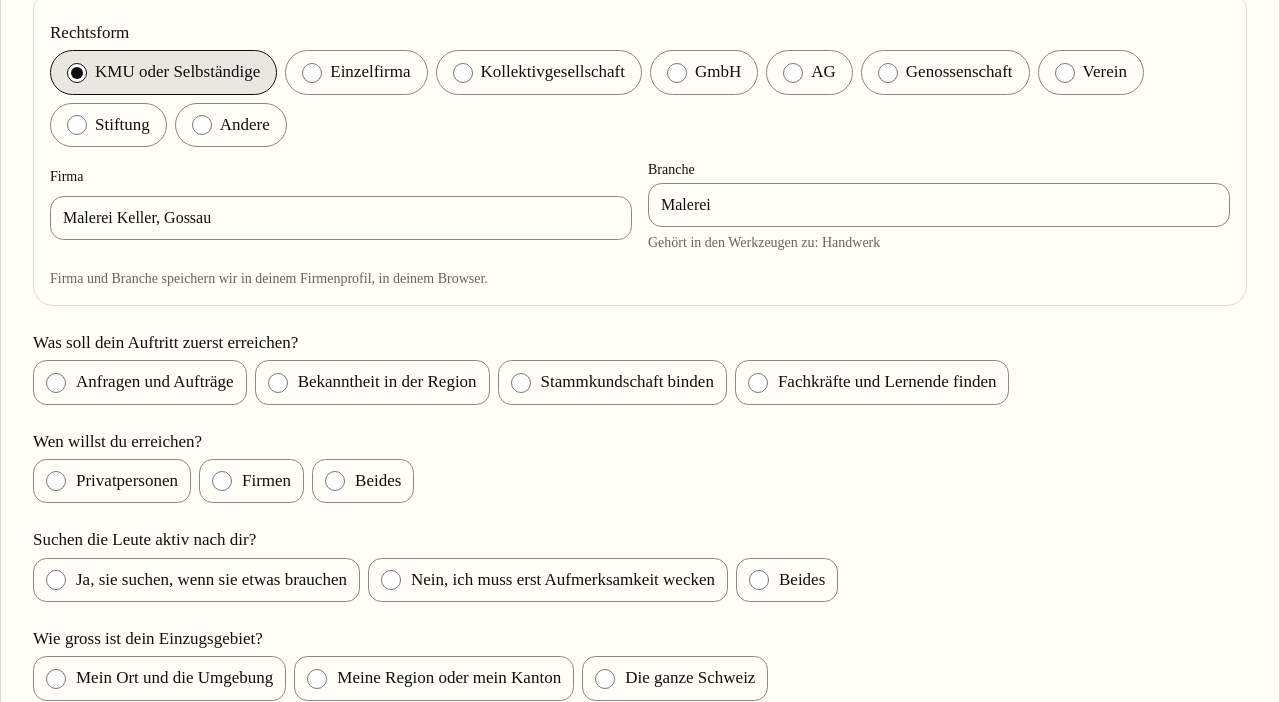
Kanalstrategie: Formular › verwirft das Ziel, wenn die Person zwischen Betrieb und Verein wechselt
(page scrolled)
Expected: the field labelled "Firma" holds "Malerei Keller, Gossau", x1=50 y1=196 x2=632 y2=240
Step 1. Click the radio button with id "ks-ziel-anfragen" → click(56, 383), box x1=46 y1=373 x2=66 y2=393
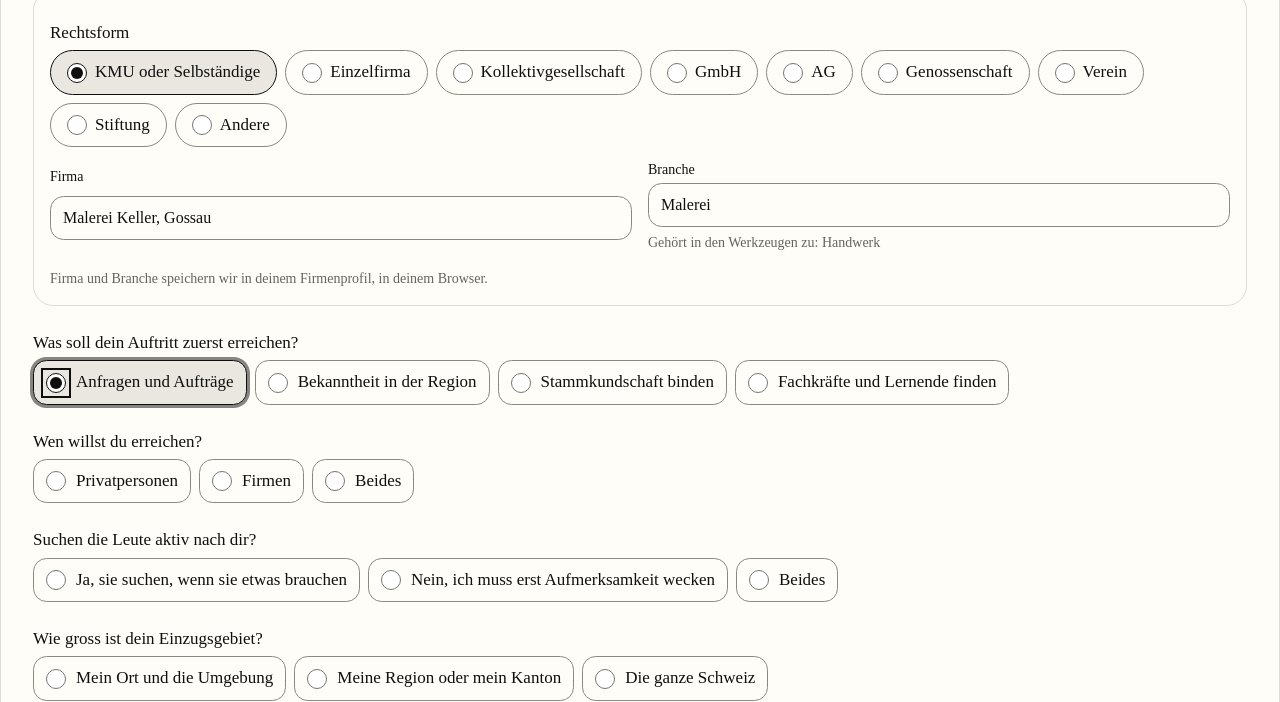
Expected: the radio button with id "ks-ziel-anfragen" is checked, x1=46 y1=373 x2=66 y2=393
Step 2. Click the radio button labelled "Verein" → click(1064, 72), box x1=1054 y1=62 x2=1074 y2=82
(page scrolled)
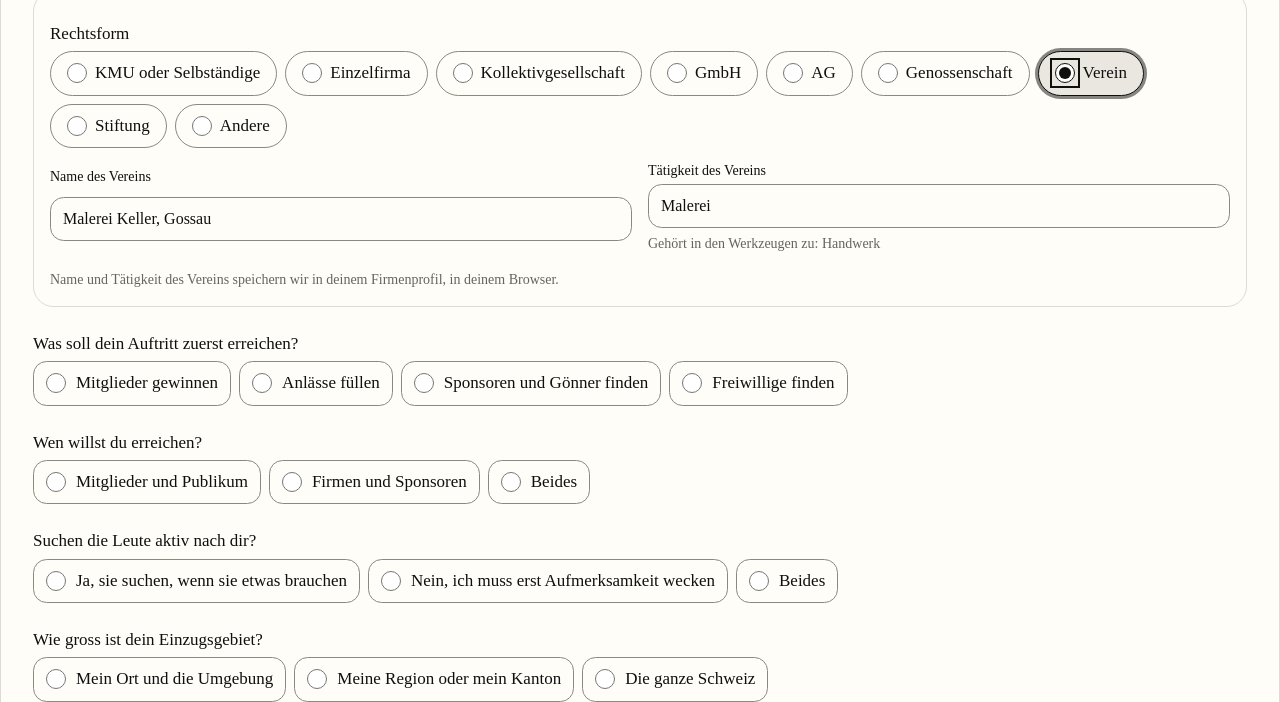
Expected: the radio button with id "ks-ziel-mitglieder" is not checked, x1=46 y1=373 x2=66 y2=393
